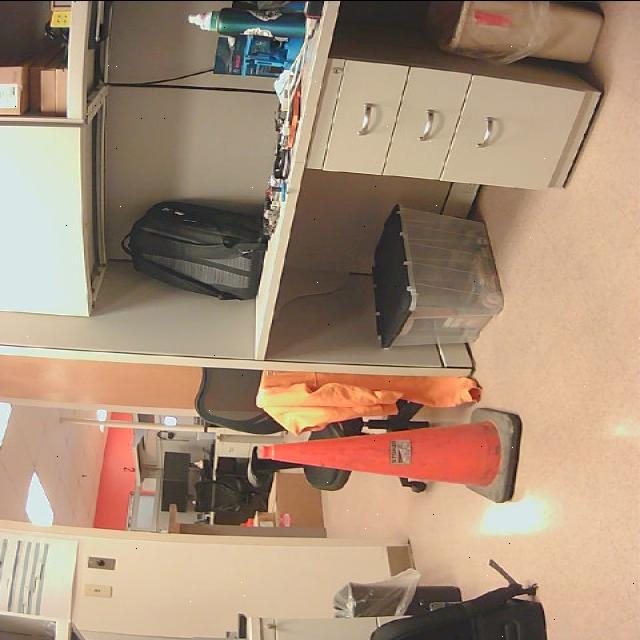traffic cone: (260, 408, 524, 503)
